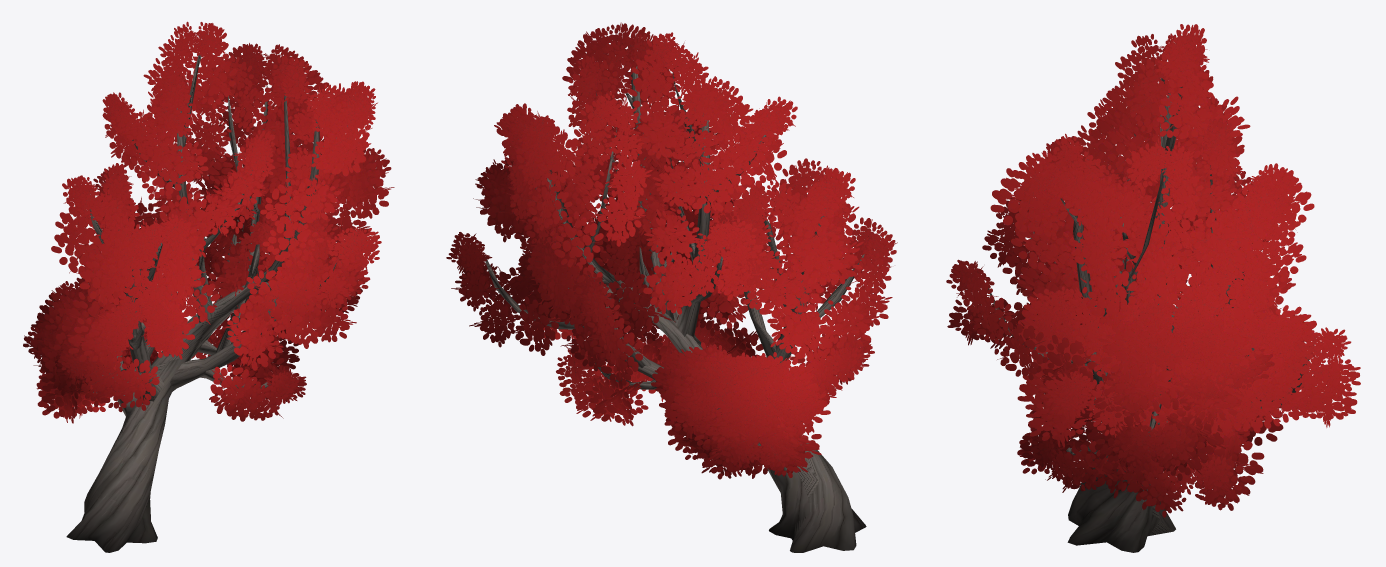
File: TwistedTree_1.medium.gltf
3 renders of one model, left to right at view 1: azimuth 30°, elevation 25°; view 2: azimuth 150°, elevation 25°; view 3: azimuth 270°, elevation 25°, orthographic. The views are drawn at different scales.
Visible parts, largest first — view 1: TwistedTree_1; view 2: TwistedTree_1; view 3: TwistedTree_1.
Boxes of the visible parts, <box> form: TwistedTree_1: <box>23,21,394,552</box>; TwistedTree_1: <box>446,22,897,552</box>; TwistedTree_1: <box>946,24,1360,552</box>.
Bounding box in the file's own units: 13.52 × 16.73 × 11.55.
2 materials, 2 textured.
